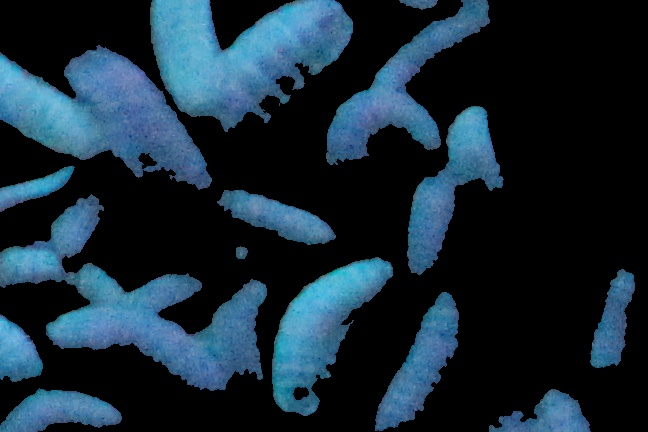larvae: (188, 1, 356, 138), (62, 46, 213, 189), (266, 258, 396, 419), (66, 305, 234, 396), (1, 35, 113, 160), (374, 288, 459, 432), (368, 1, 511, 82), (143, 1, 227, 128), (325, 84, 440, 168), (448, 104, 508, 235), (221, 184, 336, 248), (590, 257, 644, 389), (208, 275, 267, 381), (1, 289, 63, 382), (1, 389, 121, 432), (407, 174, 455, 273), (50, 195, 104, 252), (61, 261, 126, 302), (1, 168, 72, 205), (1, 248, 70, 286), (130, 273, 202, 306)
